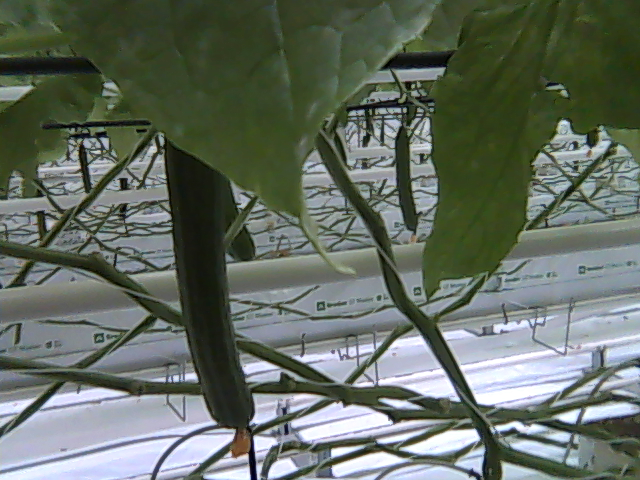concombre: (161, 135, 257, 458)
